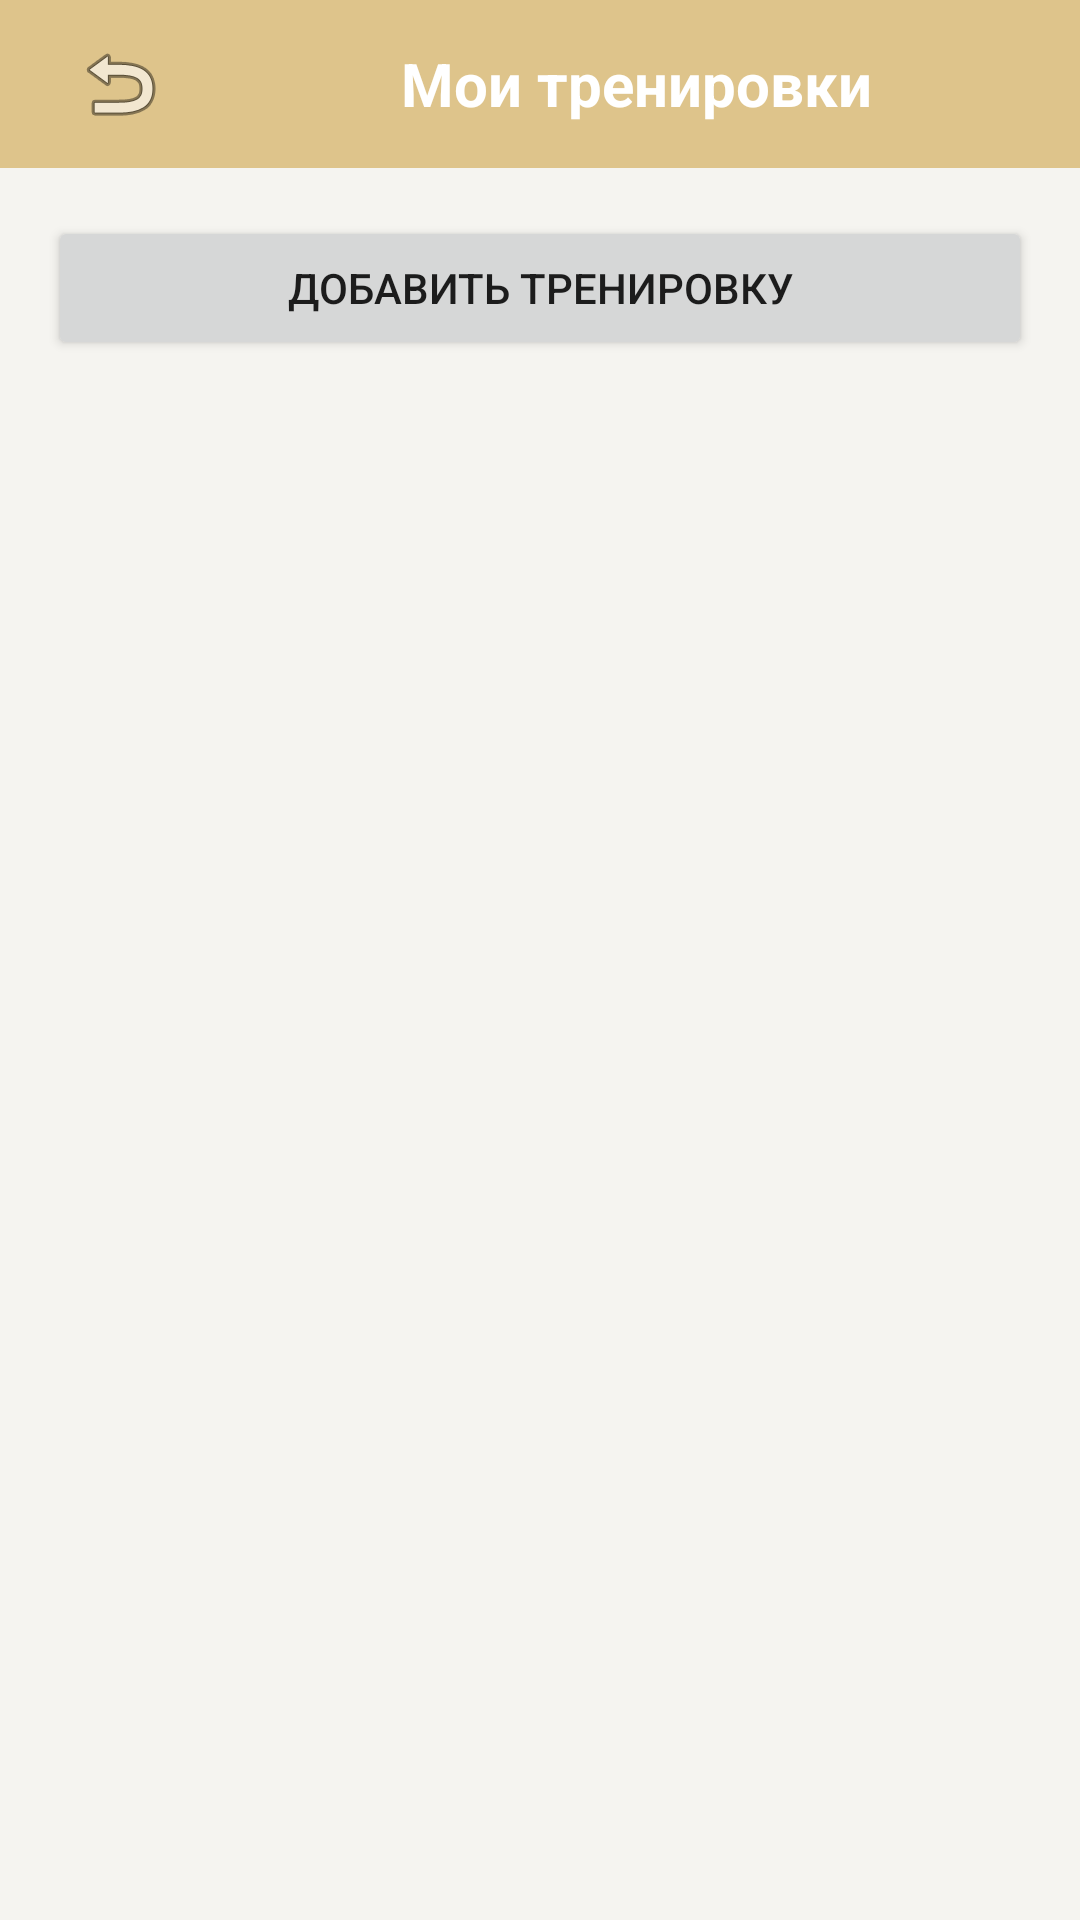

Where icons sit on this 1080x1920 app screen, as (x1, y1, x2, y2):
Назад: (87, 53, 156, 116)
